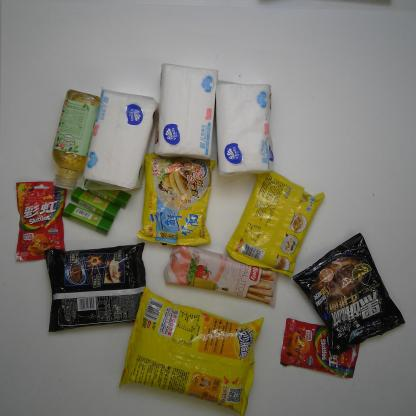Candy: (279, 317, 361, 379), (15, 181, 68, 262)
Dessert: (164, 244, 279, 308)
Drink: (51, 88, 100, 190)
Instant Noodles: (291, 232, 406, 356), (224, 168, 326, 279), (42, 242, 148, 333), (136, 152, 218, 247)
Puffed Food: (118, 285, 264, 416)
Stationery: (68, 186, 122, 222), (61, 202, 113, 236), (82, 178, 132, 210)
Tissue: (83, 89, 158, 192), (154, 63, 218, 160), (215, 80, 275, 178)
